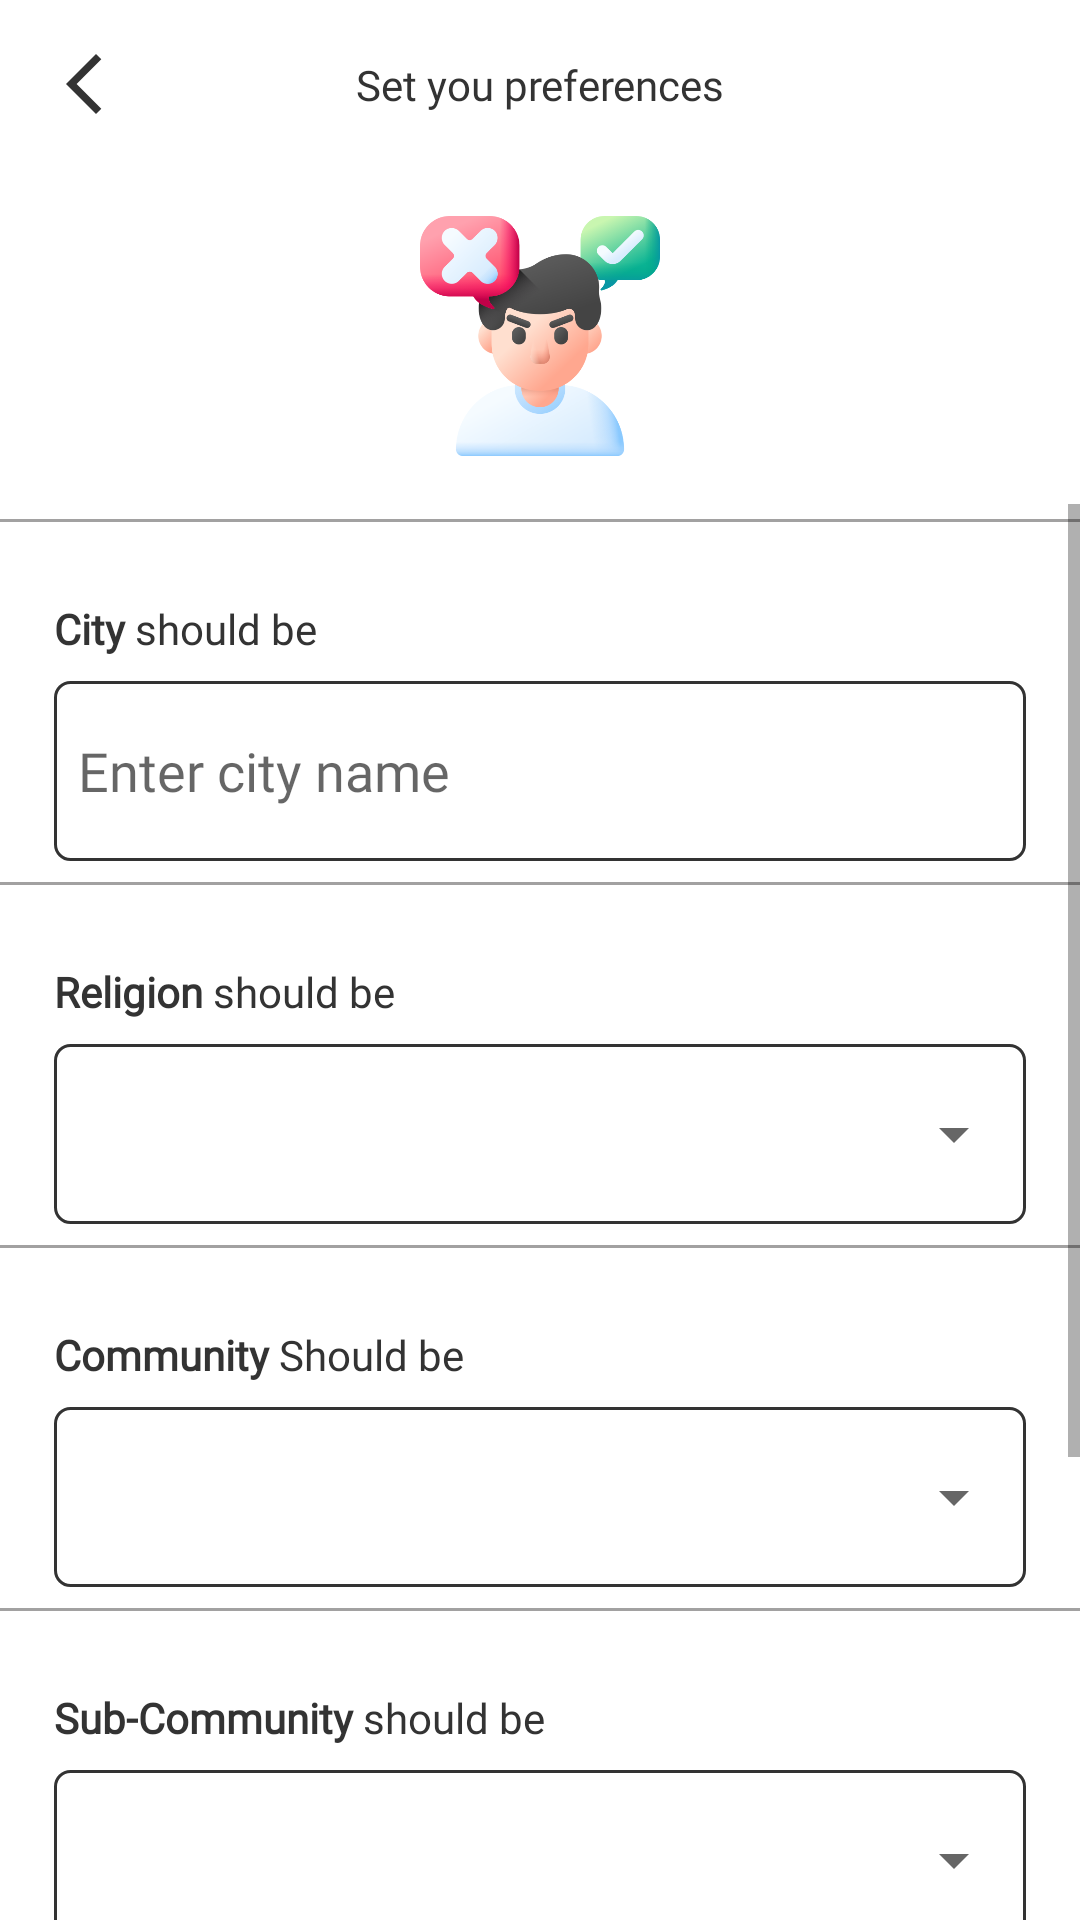

Locate icon controls on the screen. Image size 1080px×1920px, boxes as [x1,y1,x2,y2].
arrow back: [66,54,101,114]
profile pref: [420,216,660,456]
